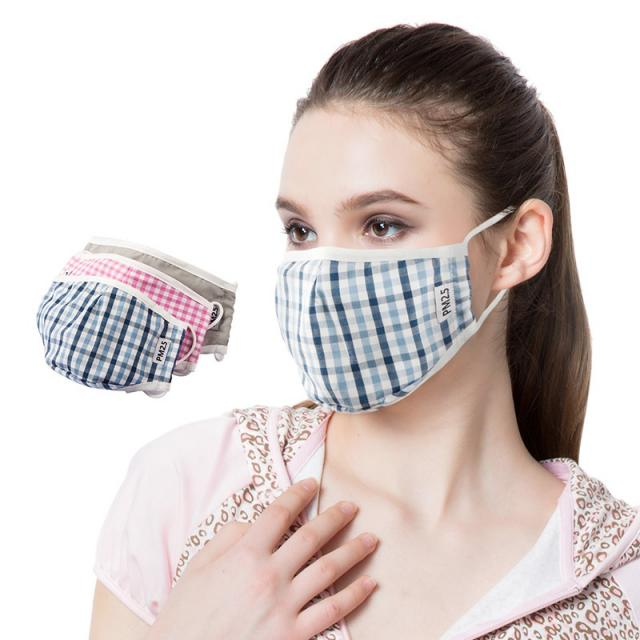mask: (267, 107, 482, 402)
